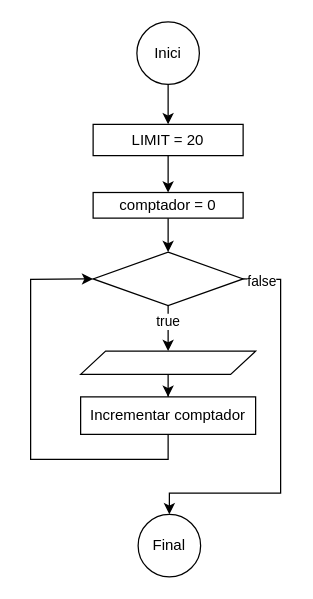
This 313x599 diagram has some shape labels left out. Each missing label, with the centre of its shape:
comptador < LIMIT: [167,278]
Imprimir comptador+1: [167,362]
